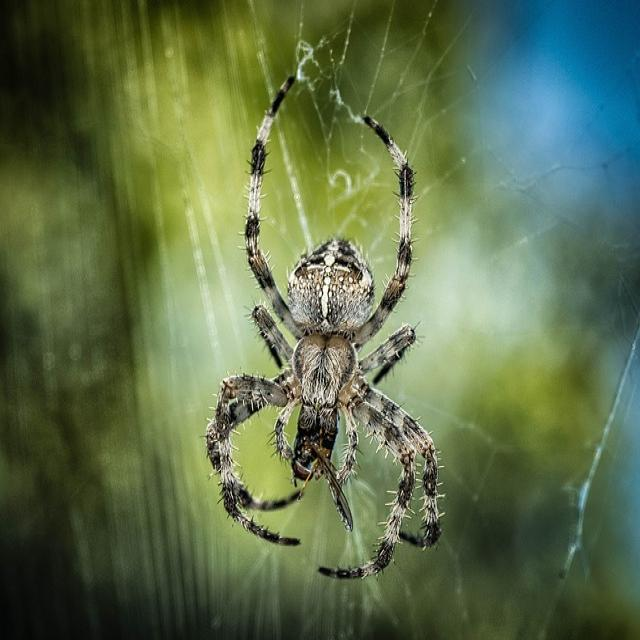spyder: (206, 77, 440, 578)
